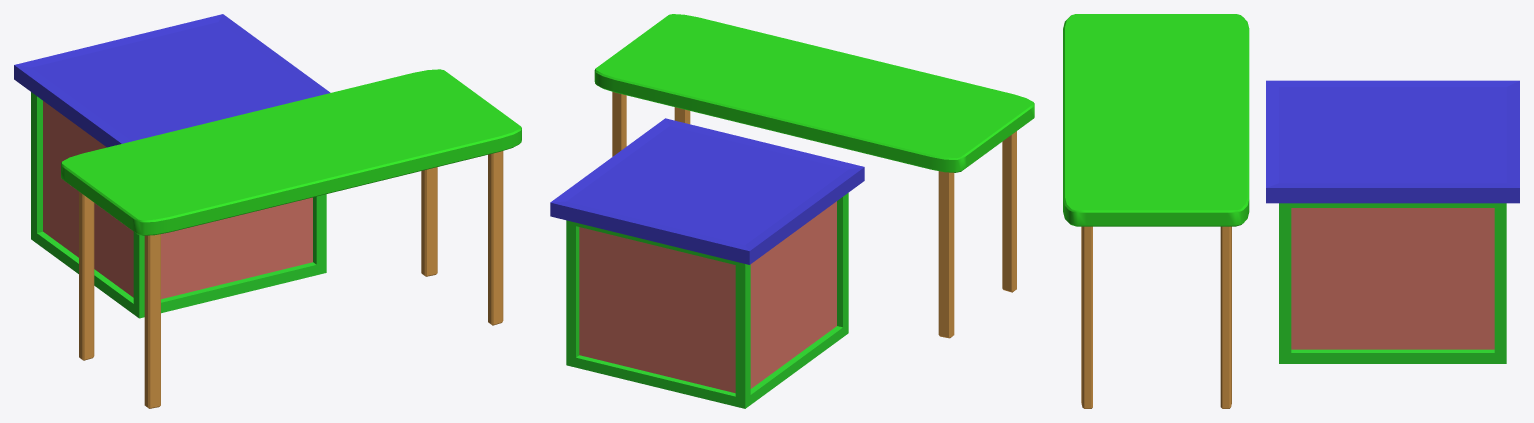
Rendered from mesas_ropa.fbx.
3 views of the same model, side by side, from view 1: azimuth 30°, elevation 25°; view 2: azimuth 150°, elevation 25°; view 3: azimuth 270°, elevation 25° (orthographic). The views are drawn at different scales.
Visible parts, largest first — view 1: mesa, Cube.001; view 2: Cube.001, mesa; view 3: Cube.001, mesa.
Part boxes in pixels (x1,y1,x2,y2): mesa: (61, 69, 521, 408); Cube.001: (14, 14, 330, 318); Cube.001: (550, 118, 864, 408); mesa: (594, 14, 1034, 338); Cube.001: (1266, 80, 1519, 363); mesa: (1063, 14, 1249, 408).
Size of the model in its own units: 200 by 97.26 by 195.
